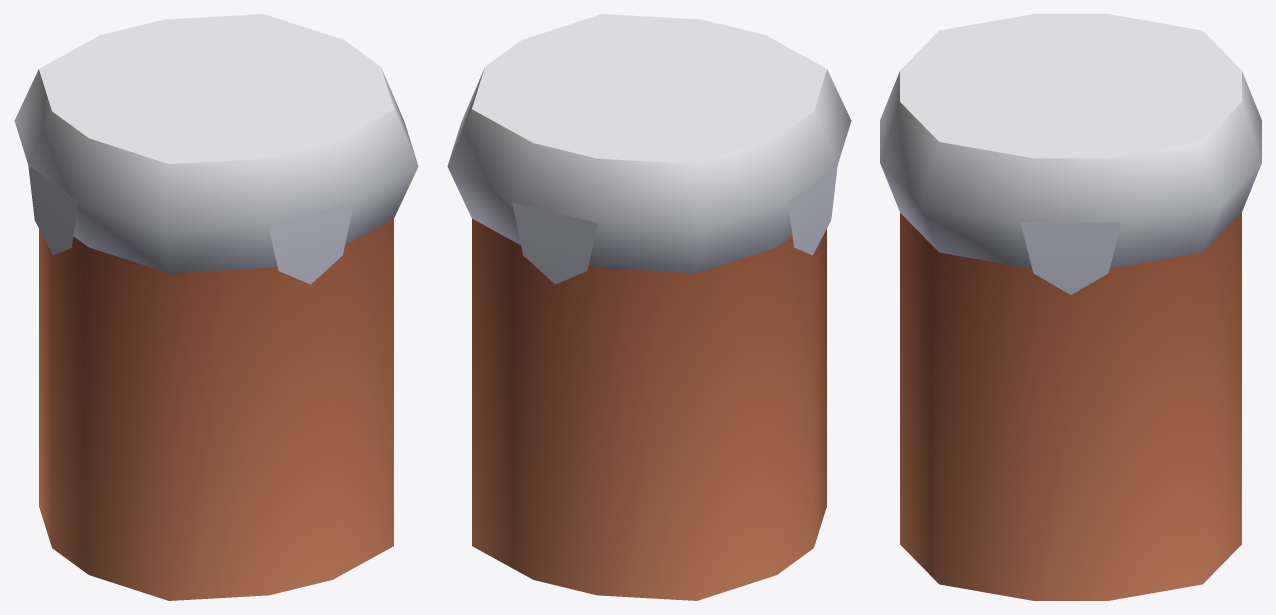
File: block-snow-overhang-narrow.glb
3 views of the same model, side by side, from view 1: azimuth 30°, elevation 25°; view 2: azimuth 150°, elevation 25°; view 3: azimuth 270°, elevation 25° (orthographic).
Visible parts, largest first — view 1: block-snow-overhang-narrow; view 2: block-snow-overhang-narrow; view 3: block-snow-overhang-narrow.
Part boxes in pixels (x1,y1,x2,y2): block-snow-overhang-narrow: [14, 14, 418, 600]; block-snow-overhang-narrow: [447, 14, 851, 600]; block-snow-overhang-narrow: [880, 14, 1261, 600].
Size of the model in its own units: 0.7821 by 1 by 0.7821.
Materials: 1 (1 with a texture image).
